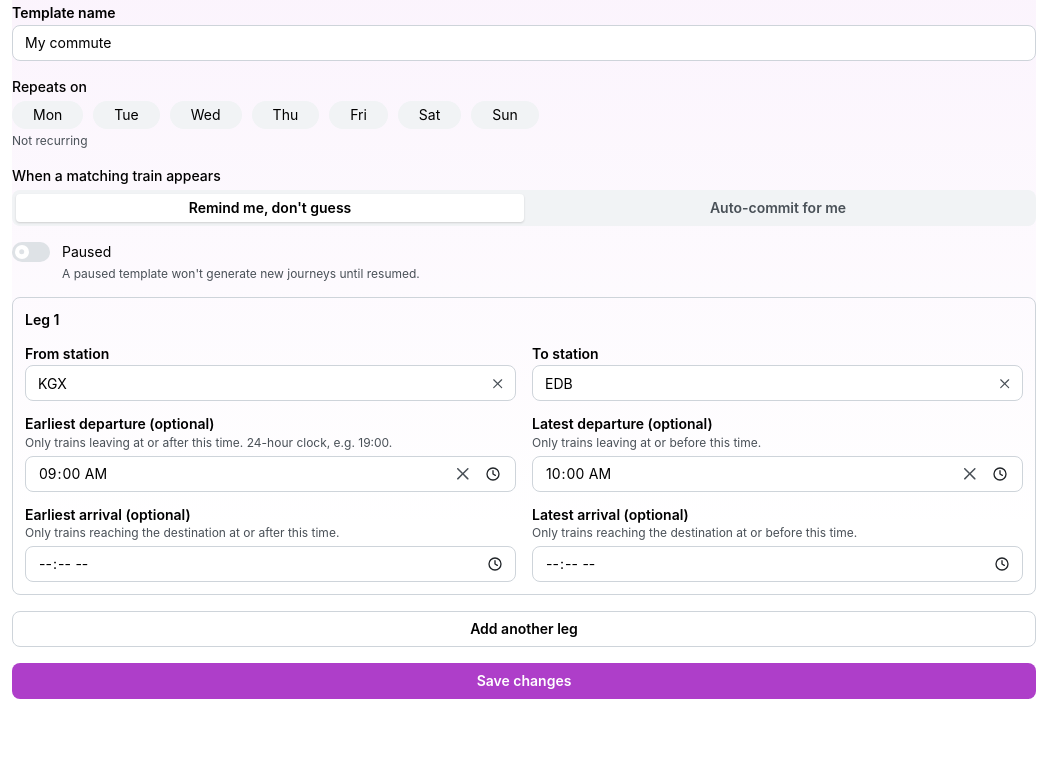
Test: EditJourneyTemplateForm › adds another leg client-side, with no remove control while only one leg exists
The image size is (1048, 768).
Expected: the text "Leg 1" is shown, [25,310,59,331]
Click the button "Add another leg" at [524, 629], box [12,611,1036,647]
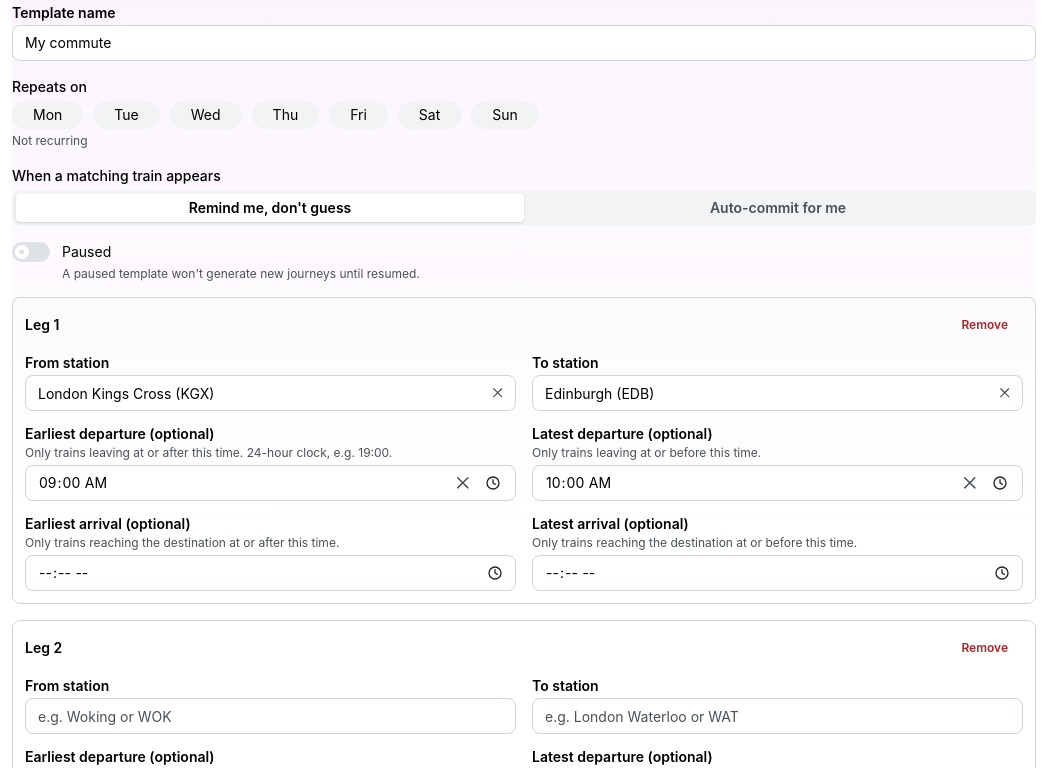
Expected: the text "Leg 2" is shown, [25,638,62,659]
Expected: the button with aria-label "Remove leg 1" is shown, [946,310,1023,340]
Expected: the button with aria-label "Remove leg 2" is shown, [946,633,1023,663]
